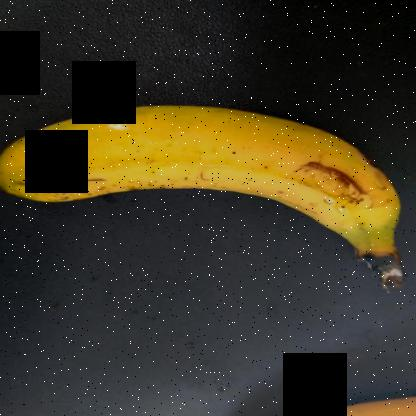ripe: (0, 93, 400, 253)
